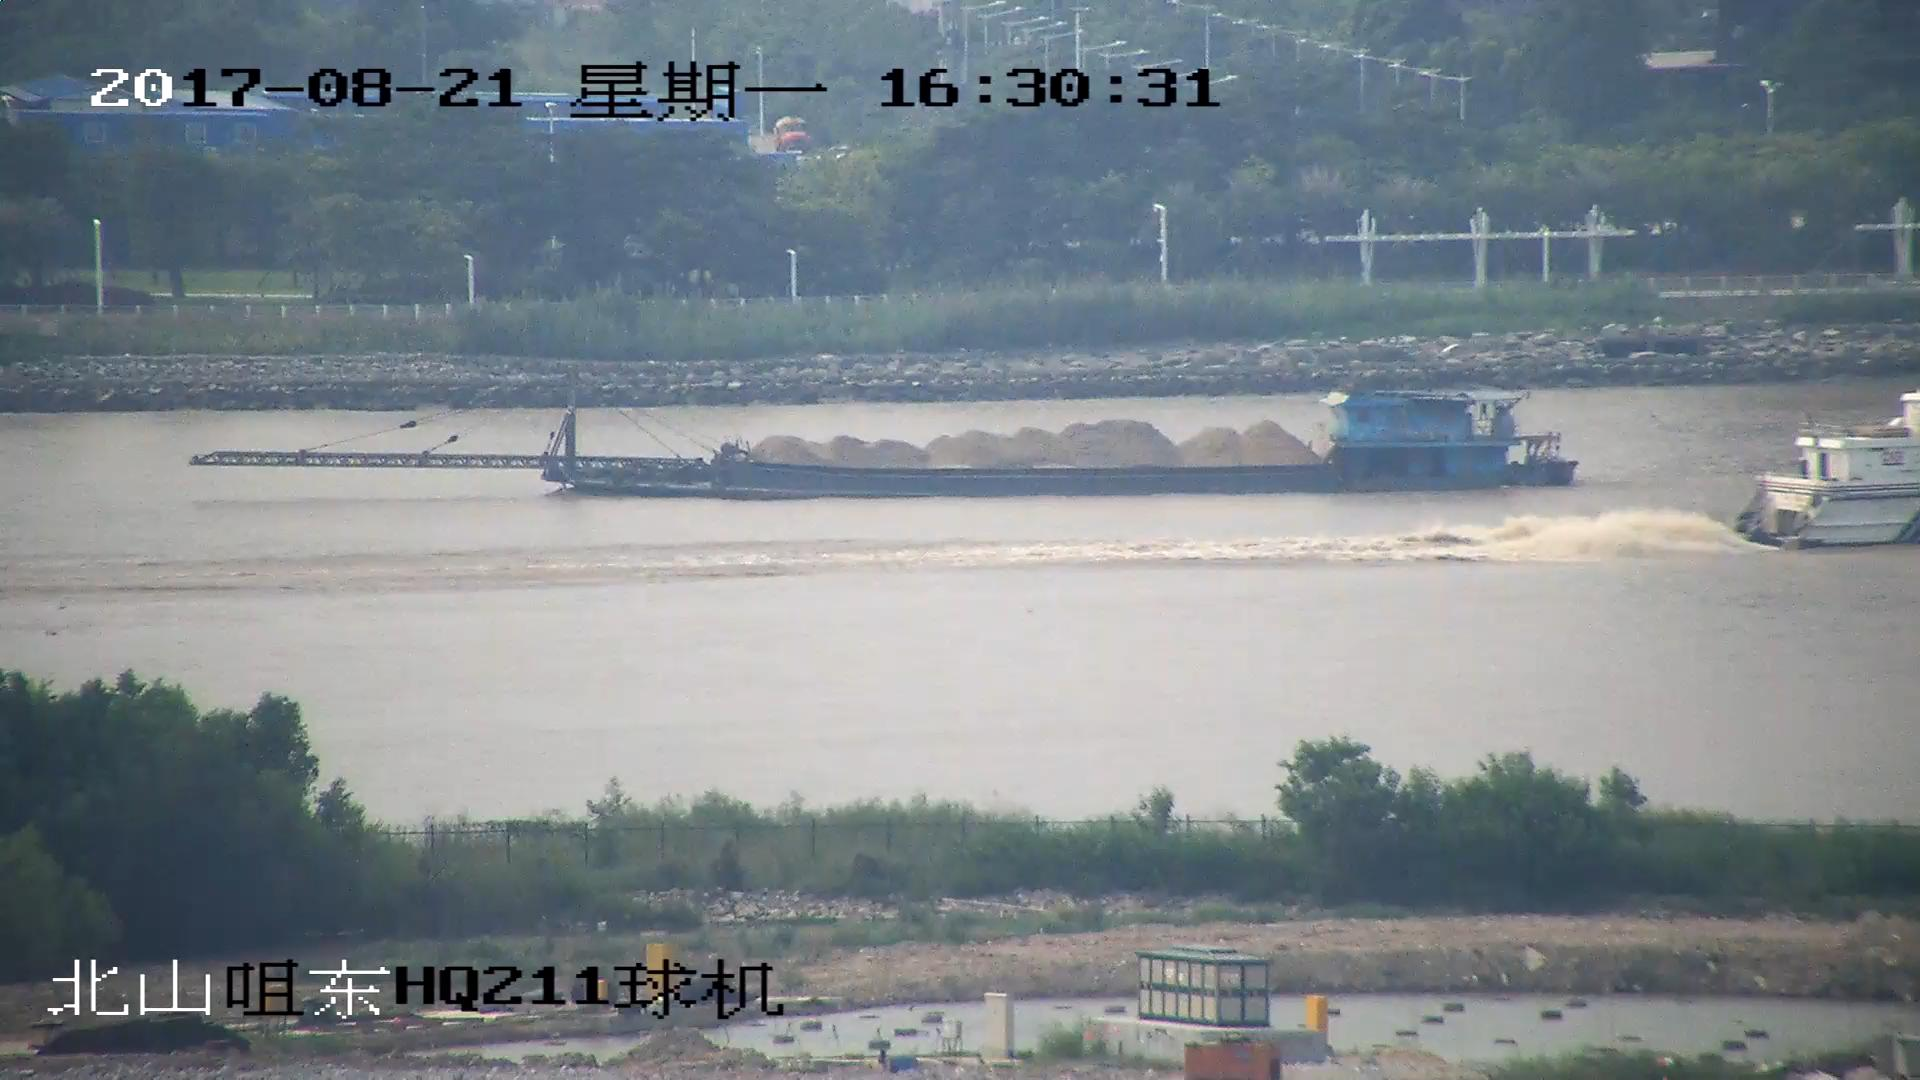ore carrier: (190, 359, 1582, 497)
passenger ship: (1734, 389, 1920, 548)
